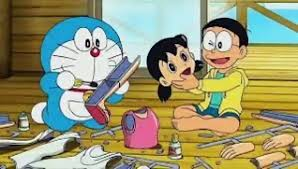doraemon: (31, 15, 130, 135)
